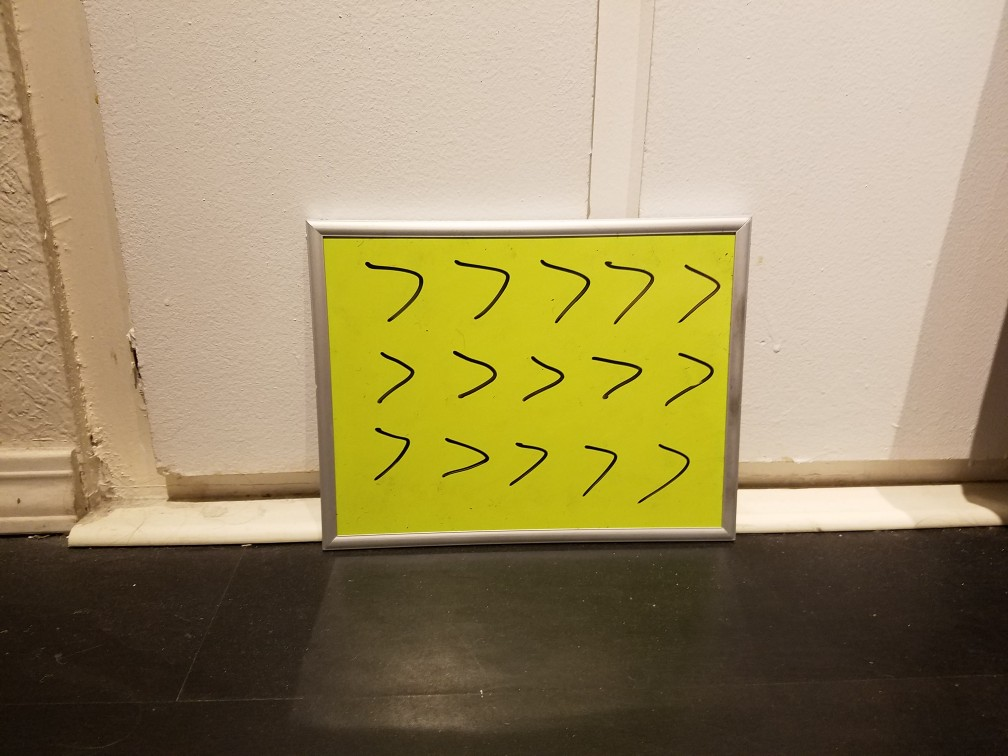>: (583, 344, 652, 411), (440, 340, 504, 412), (369, 246, 423, 329), (448, 246, 510, 317), (640, 433, 697, 510), (538, 247, 591, 326), (662, 344, 720, 416), (569, 429, 623, 505), (674, 248, 723, 326), (510, 344, 570, 407), (369, 421, 422, 486), (504, 429, 557, 492), (371, 341, 417, 411), (611, 250, 653, 326), (438, 429, 491, 485)
